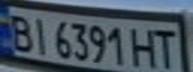1: (106, 22, 130, 65)
3: (66, 20, 90, 62)
6: (48, 17, 72, 60)
9: (87, 21, 109, 64)
B: (3, 10, 36, 53)
H: (127, 25, 160, 69)
I: (27, 15, 54, 55)
T: (151, 26, 181, 70)
